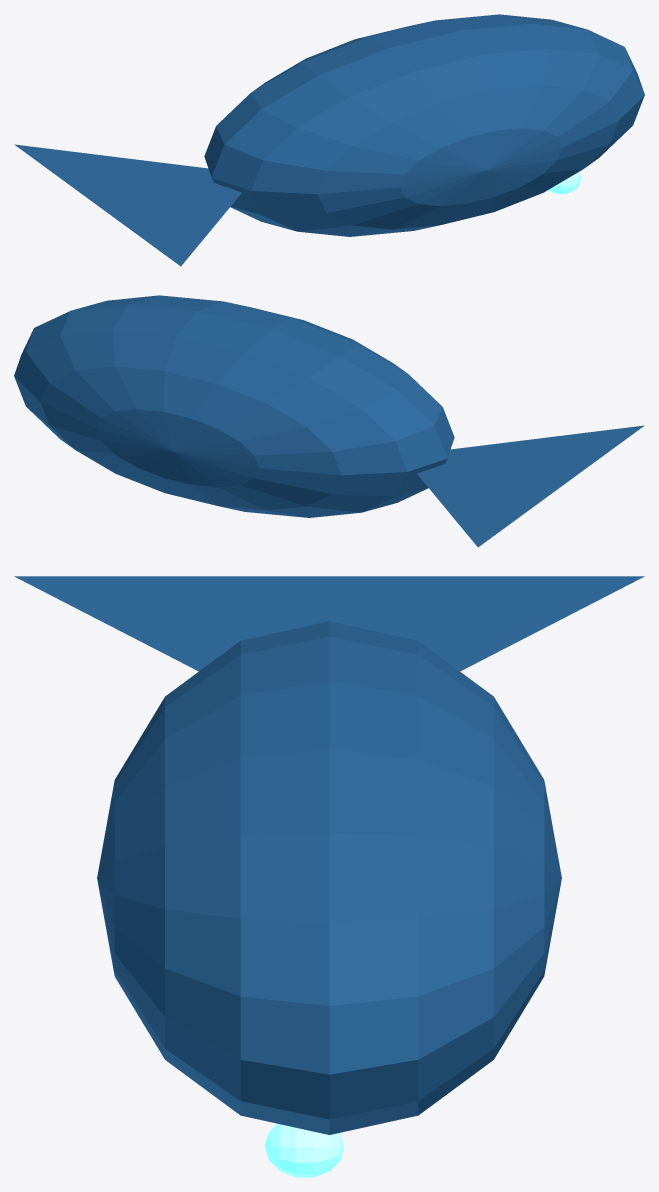
The model's file is SpalakhFish_v095.glb.
3 views of the same model, one above another, from view 1: azimuth 30°, elevation 25°; view 2: azimuth 150°, elevation 25°; view 3: azimuth 270°, elevation 25° (orthographic). The views are drawn at different scales.
Size of the model in its own units: 0.71 by 0.2249 by 0.38.
